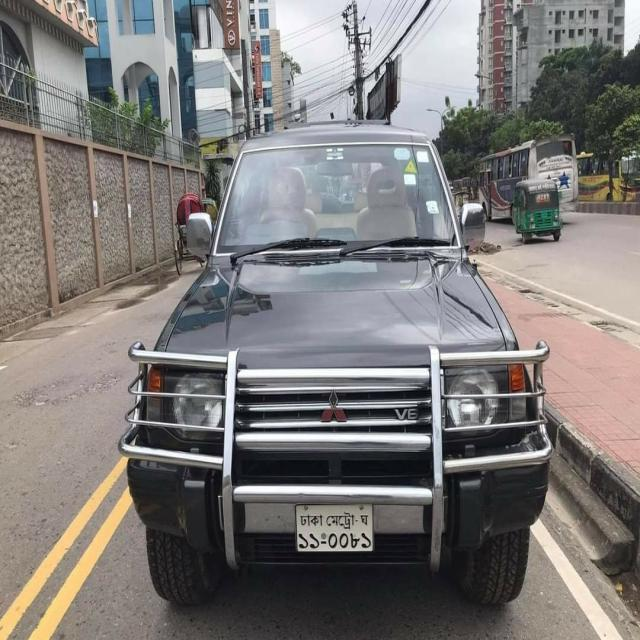black: (124, 113, 538, 621)
